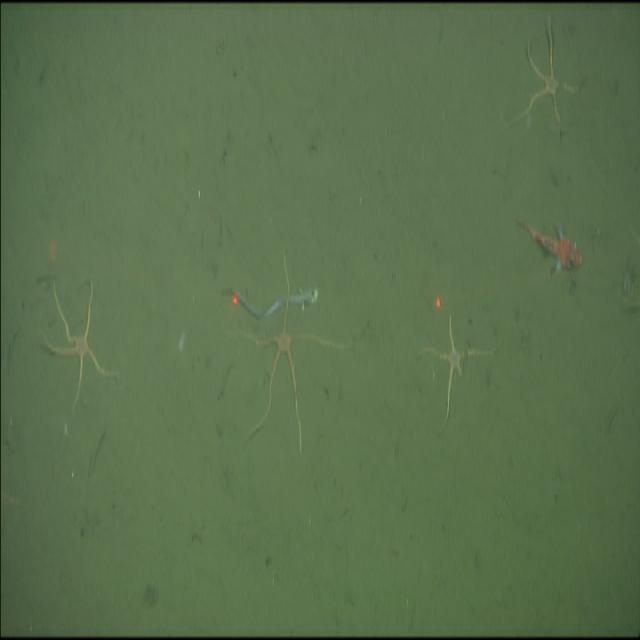Brittle Star: (34, 266, 122, 417), (505, 7, 586, 141), (412, 315, 506, 424)
Not Brittle Star: (513, 207, 587, 278), (218, 282, 319, 323)
